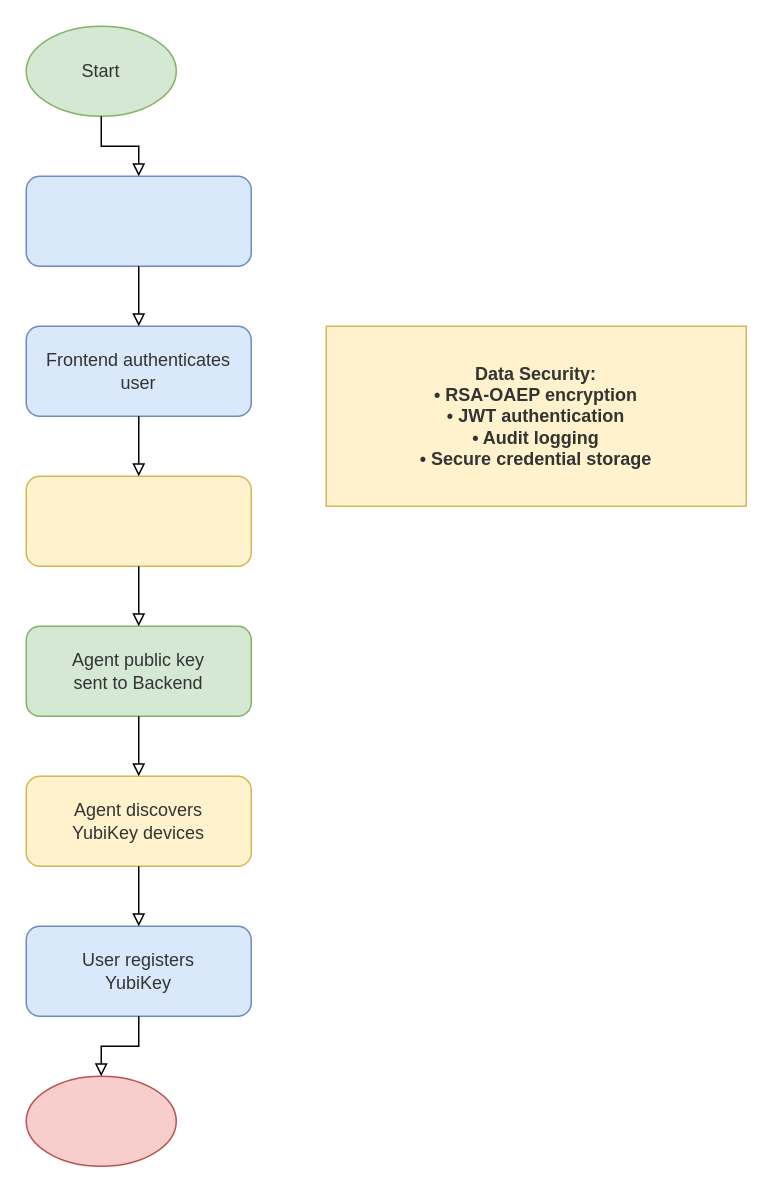
This 773x1193 diagram has some shape labels left out. Here are the shapes that lost their labels. From the top down, the centre of each, then its label:
pixel 138 220: User accesses Web Portal
pixel 138 520: Frontend detects Local Agent
pixel 100 1120: End
